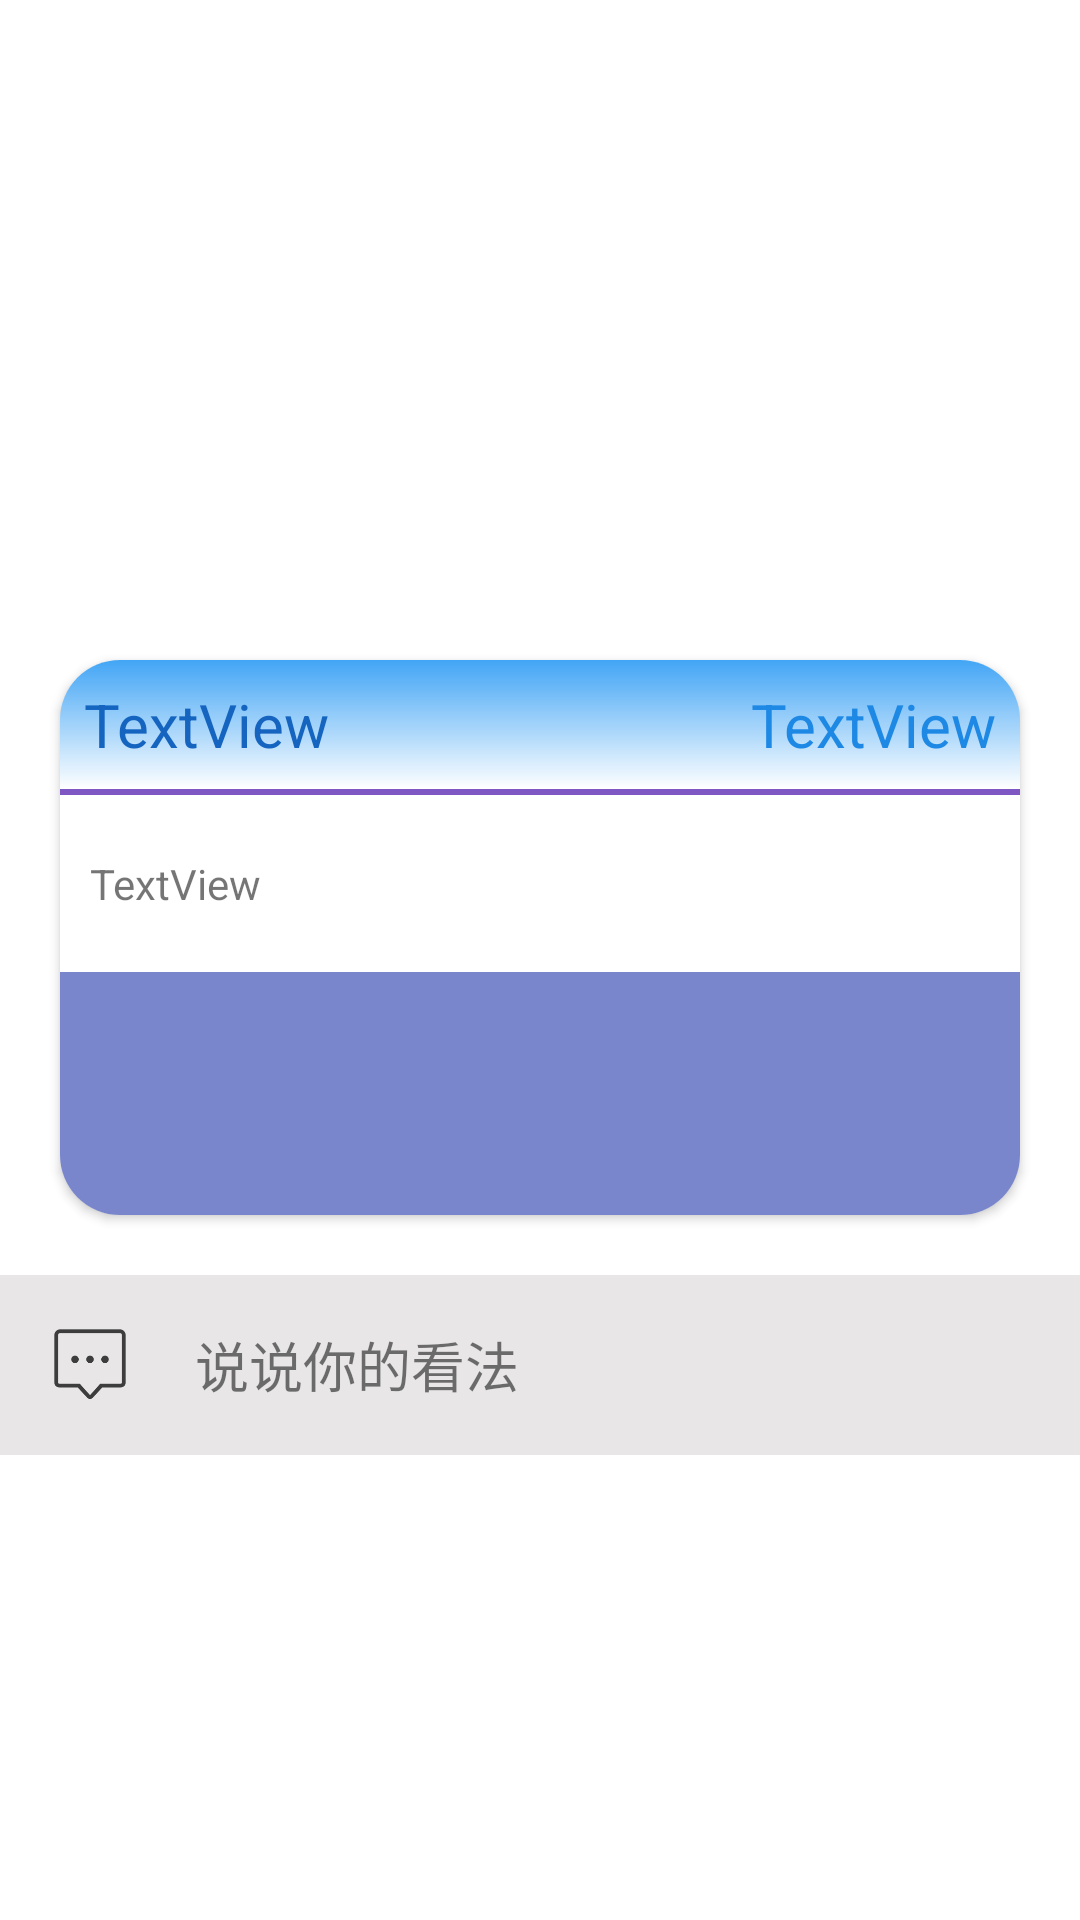

Icon bounding boxes for this 1080w x 1920h phone screenshot, format (x1, y1, x2, y2):
pinglun: (54, 1329, 126, 1399)
